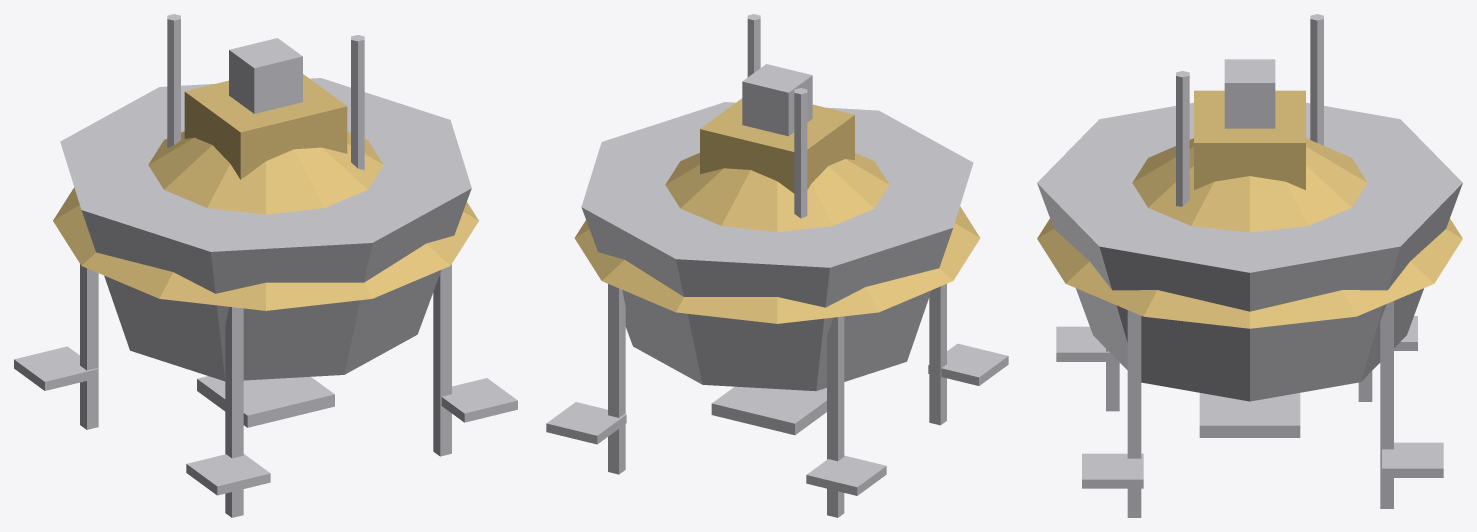
Rendered from moon-eagle.gltf.
3 views of the same model, side by side, from view 1: azimuth 30°, elevation 25°; view 2: azimuth 150°, elevation 25°; view 3: azimuth 270°, elevation 25° (orthographic). The views are drawn at different scales.
Visible parts, largest first — view 1: moon-eagle, gold; view 2: moon-eagle, gold; view 3: moon-eagle, gold.
Part boxes in pixels (x1,y1,x2,y2): moon-eagle: (14, 14, 517, 517); gold: (53, 74, 478, 310); moon-eagle: (546, 14, 1008, 517); gold: (574, 98, 980, 323); moon-eagle: (1037, 14, 1462, 517); gold: (1037, 90, 1462, 328).
Bounding box in the file's own units: 3.8 × 4.05 × 3.8.
